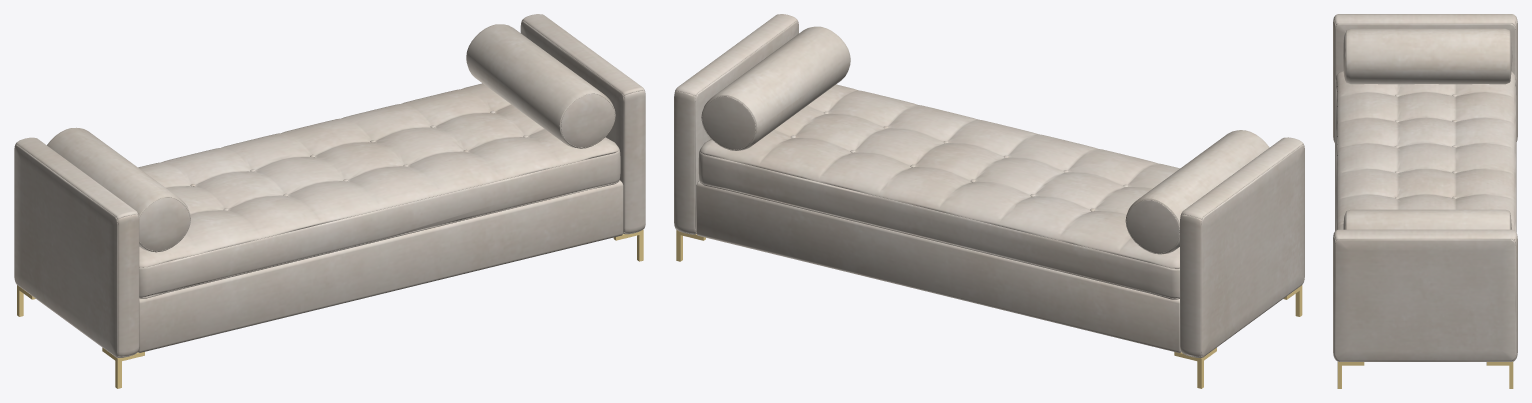
The picture shows the model from 3 angles, left to right: view 1: azimuth 30°, elevation 25°; view 2: azimuth 150°, elevation 25°; view 3: azimuth 270°, elevation 25°; orthographic projection. The views are drawn at different scales.
Visible parts, largest first — view 1: B075X4T5M6; view 2: B075X4T5M6; view 3: B075X4T5M6.
Part boxes in pixels (x1,y1,x2,y2): B075X4T5M6: (14, 14, 645, 388); B075X4T5M6: (674, 14, 1304, 388); B075X4T5M6: (1333, 14, 1517, 388).
Bounding box in the file's own units: 1.98 × 0.635 × 0.6858.
1 material, 1 textured.
